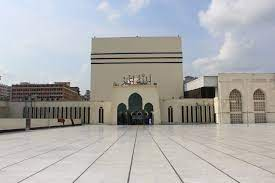Mosque: (84, 29, 194, 128)
